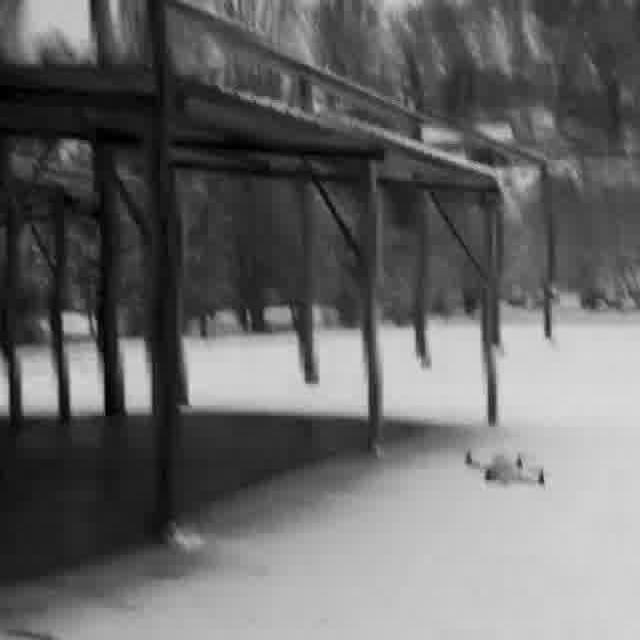drone: (458, 441, 556, 497)
